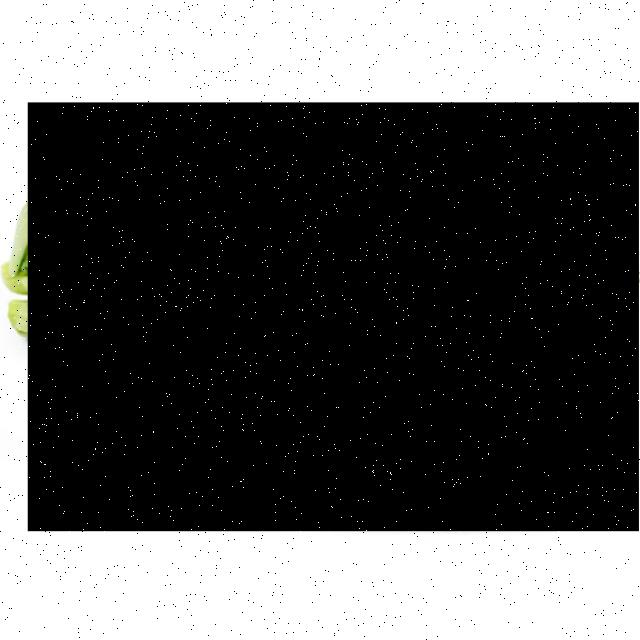Rayo_ko_Saag: (27, 102, 640, 531)
